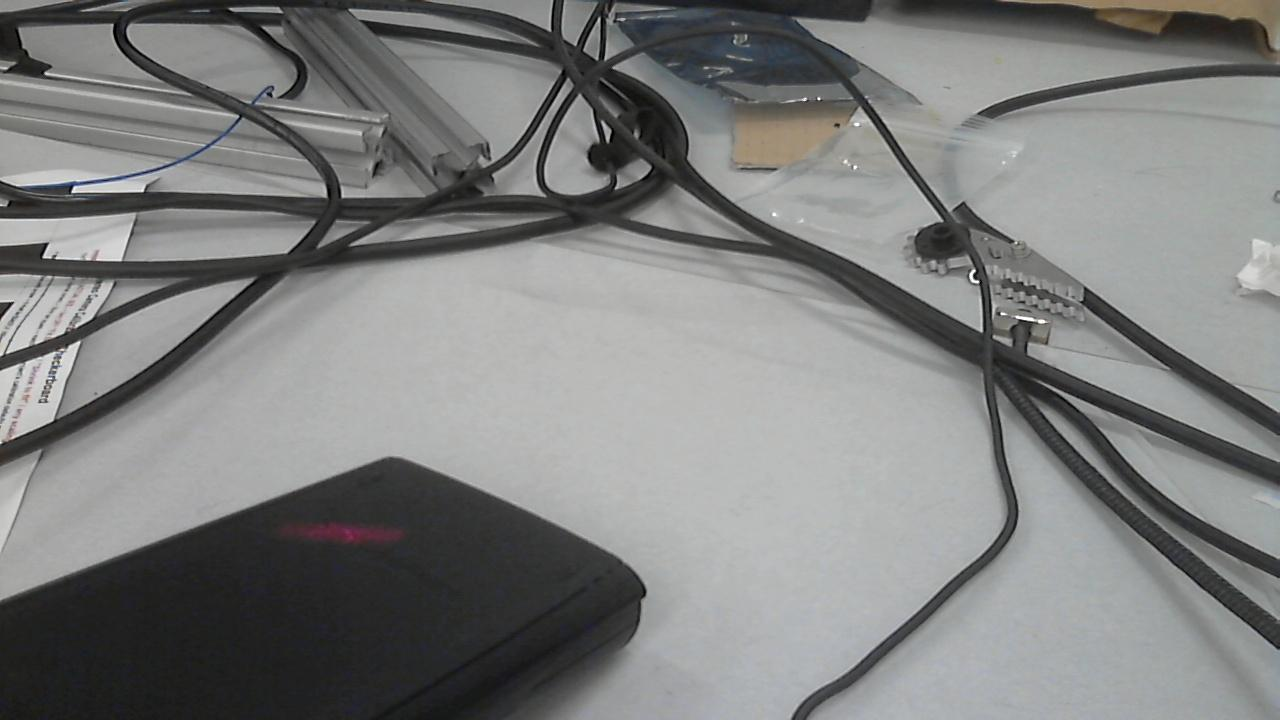Object graphing calculator slide case - Material plastic - Pdfname as1D2765rACT: (262, 498, 429, 567)
